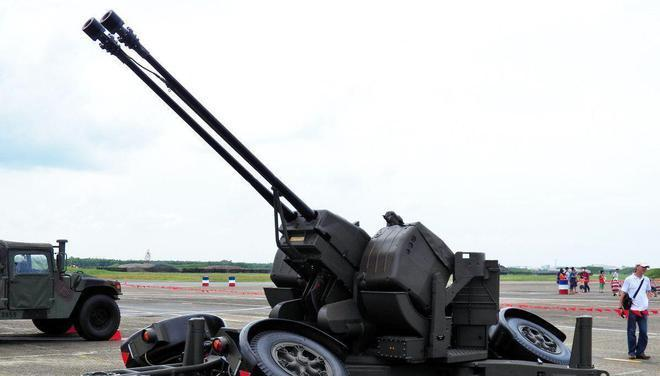MIL_SPG: (84, 12, 605, 375)
